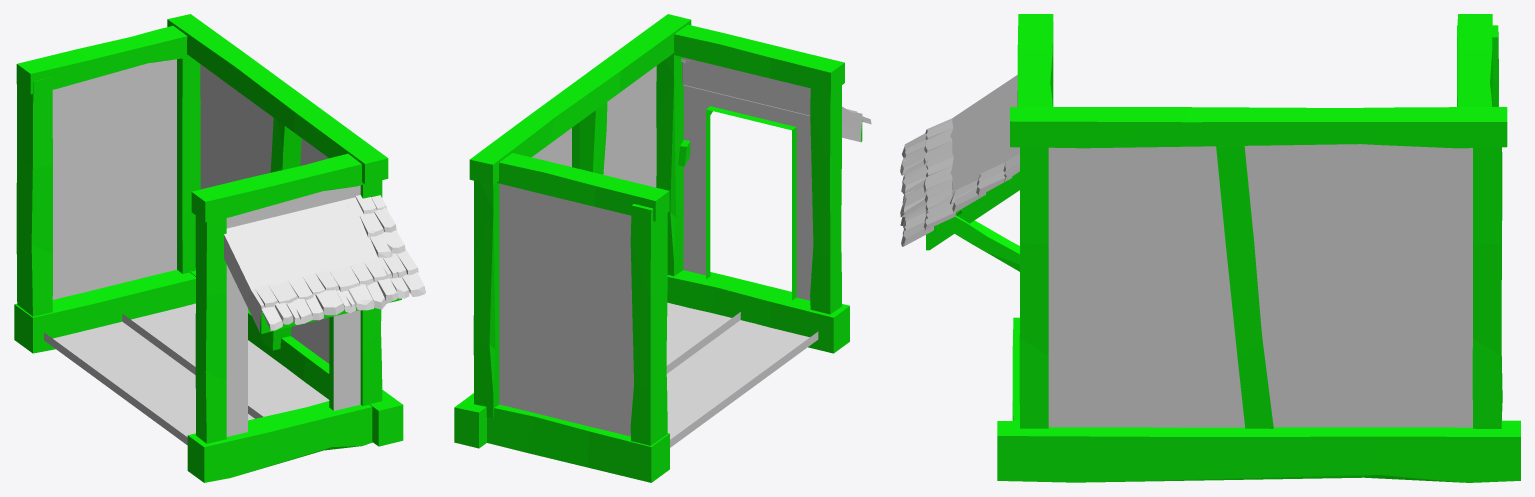
The model's file is SM_Entrance_A_Fantasy_Base.fbx.
3 views of the same model, side by side, from view 1: azimuth 30°, elevation 25°; view 2: azimuth 150°, elevation 25°; view 3: azimuth 270°, elevation 25° (orthographic). The views are drawn at different scales.
Visible parts, largest first — view 1: SM_Entrance_A_Fantasy_Base; view 2: SM_Entrance_A_Fantasy_Base; view 3: SM_Entrance_A_Fantasy_Base.
Part boxes in pixels (x1=…): SM_Entrance_A_Fantasy_Base: x1=14, y1=14, x2=425, y2=482; SM_Entrance_A_Fantasy_Base: x1=454, y1=14, x2=871, y2=482; SM_Entrance_A_Fantasy_Base: x1=900, y1=14, x2=1520, y2=482.
Size of the model in its own units: 2.48 by 3.46 by 5.48.
